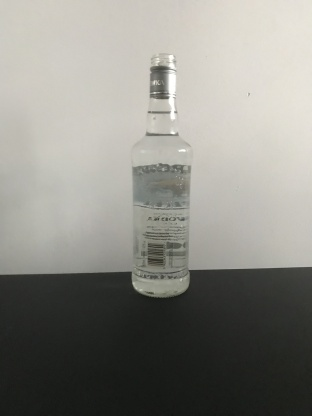nakretka: (147, 50, 178, 100)
